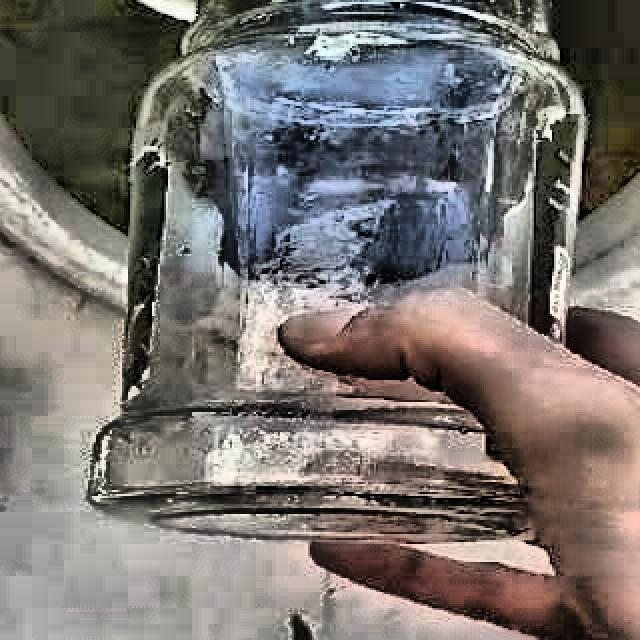glass: (91, 0, 587, 541)
